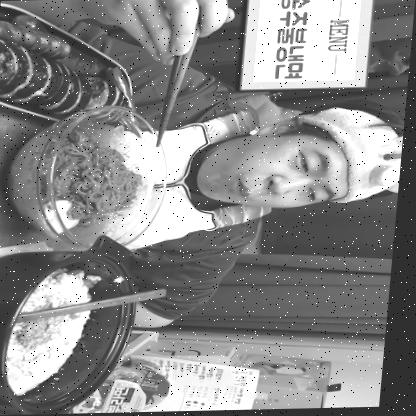streamer: (0, 0, 416, 331)
